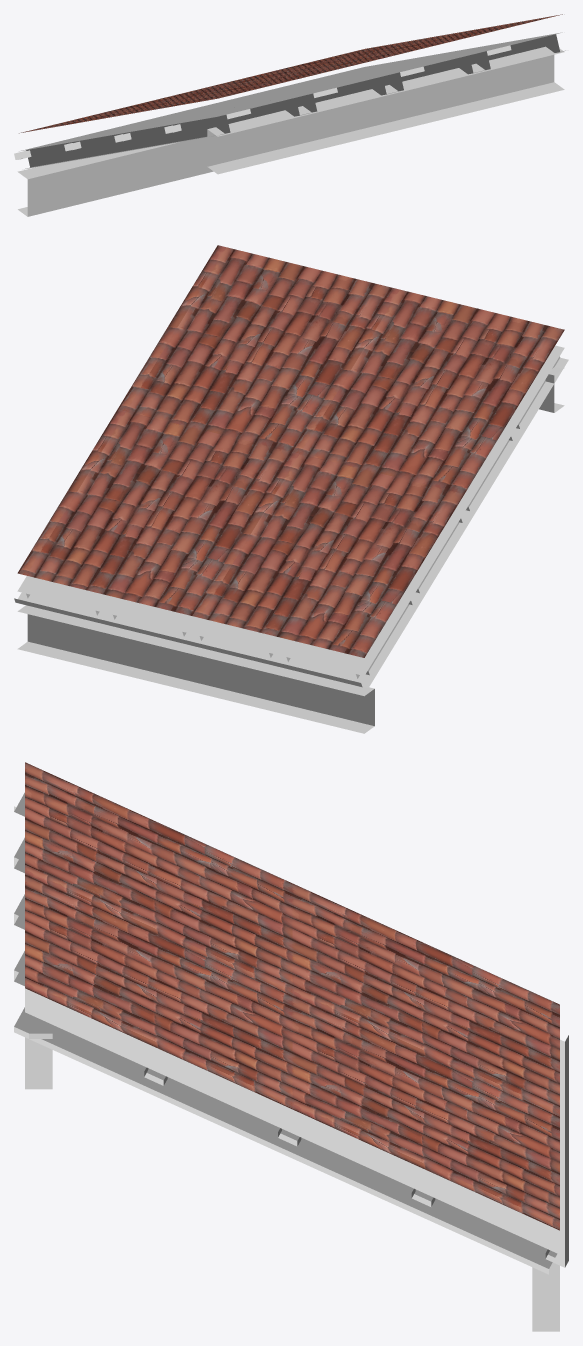
Rendered from WallKit_Slope_LOD1.fbx.
3 views of the same model, one above another, from view 1: azimuth 30°, elevation 25°; view 2: azimuth 150°, elevation 25°; view 3: azimuth 270°, elevation 25° (orthographic). The views are drawn at different scales.
Parts seen in each view (by area): view 1: WallKit_Slope_LOD1; view 2: WallKit_Slope_LOD1; view 3: WallKit_Slope_LOD1.
Part boxes in pixels (x1,y1,x2,y2): WallKit_Slope_LOD1: [14, 14, 565, 216]; WallKit_Slope_LOD1: [14, 245, 568, 733]; WallKit_Slope_LOD1: [14, 762, 568, 1331].
Bounding box in the file's own units: 400 × 283 × 415.
